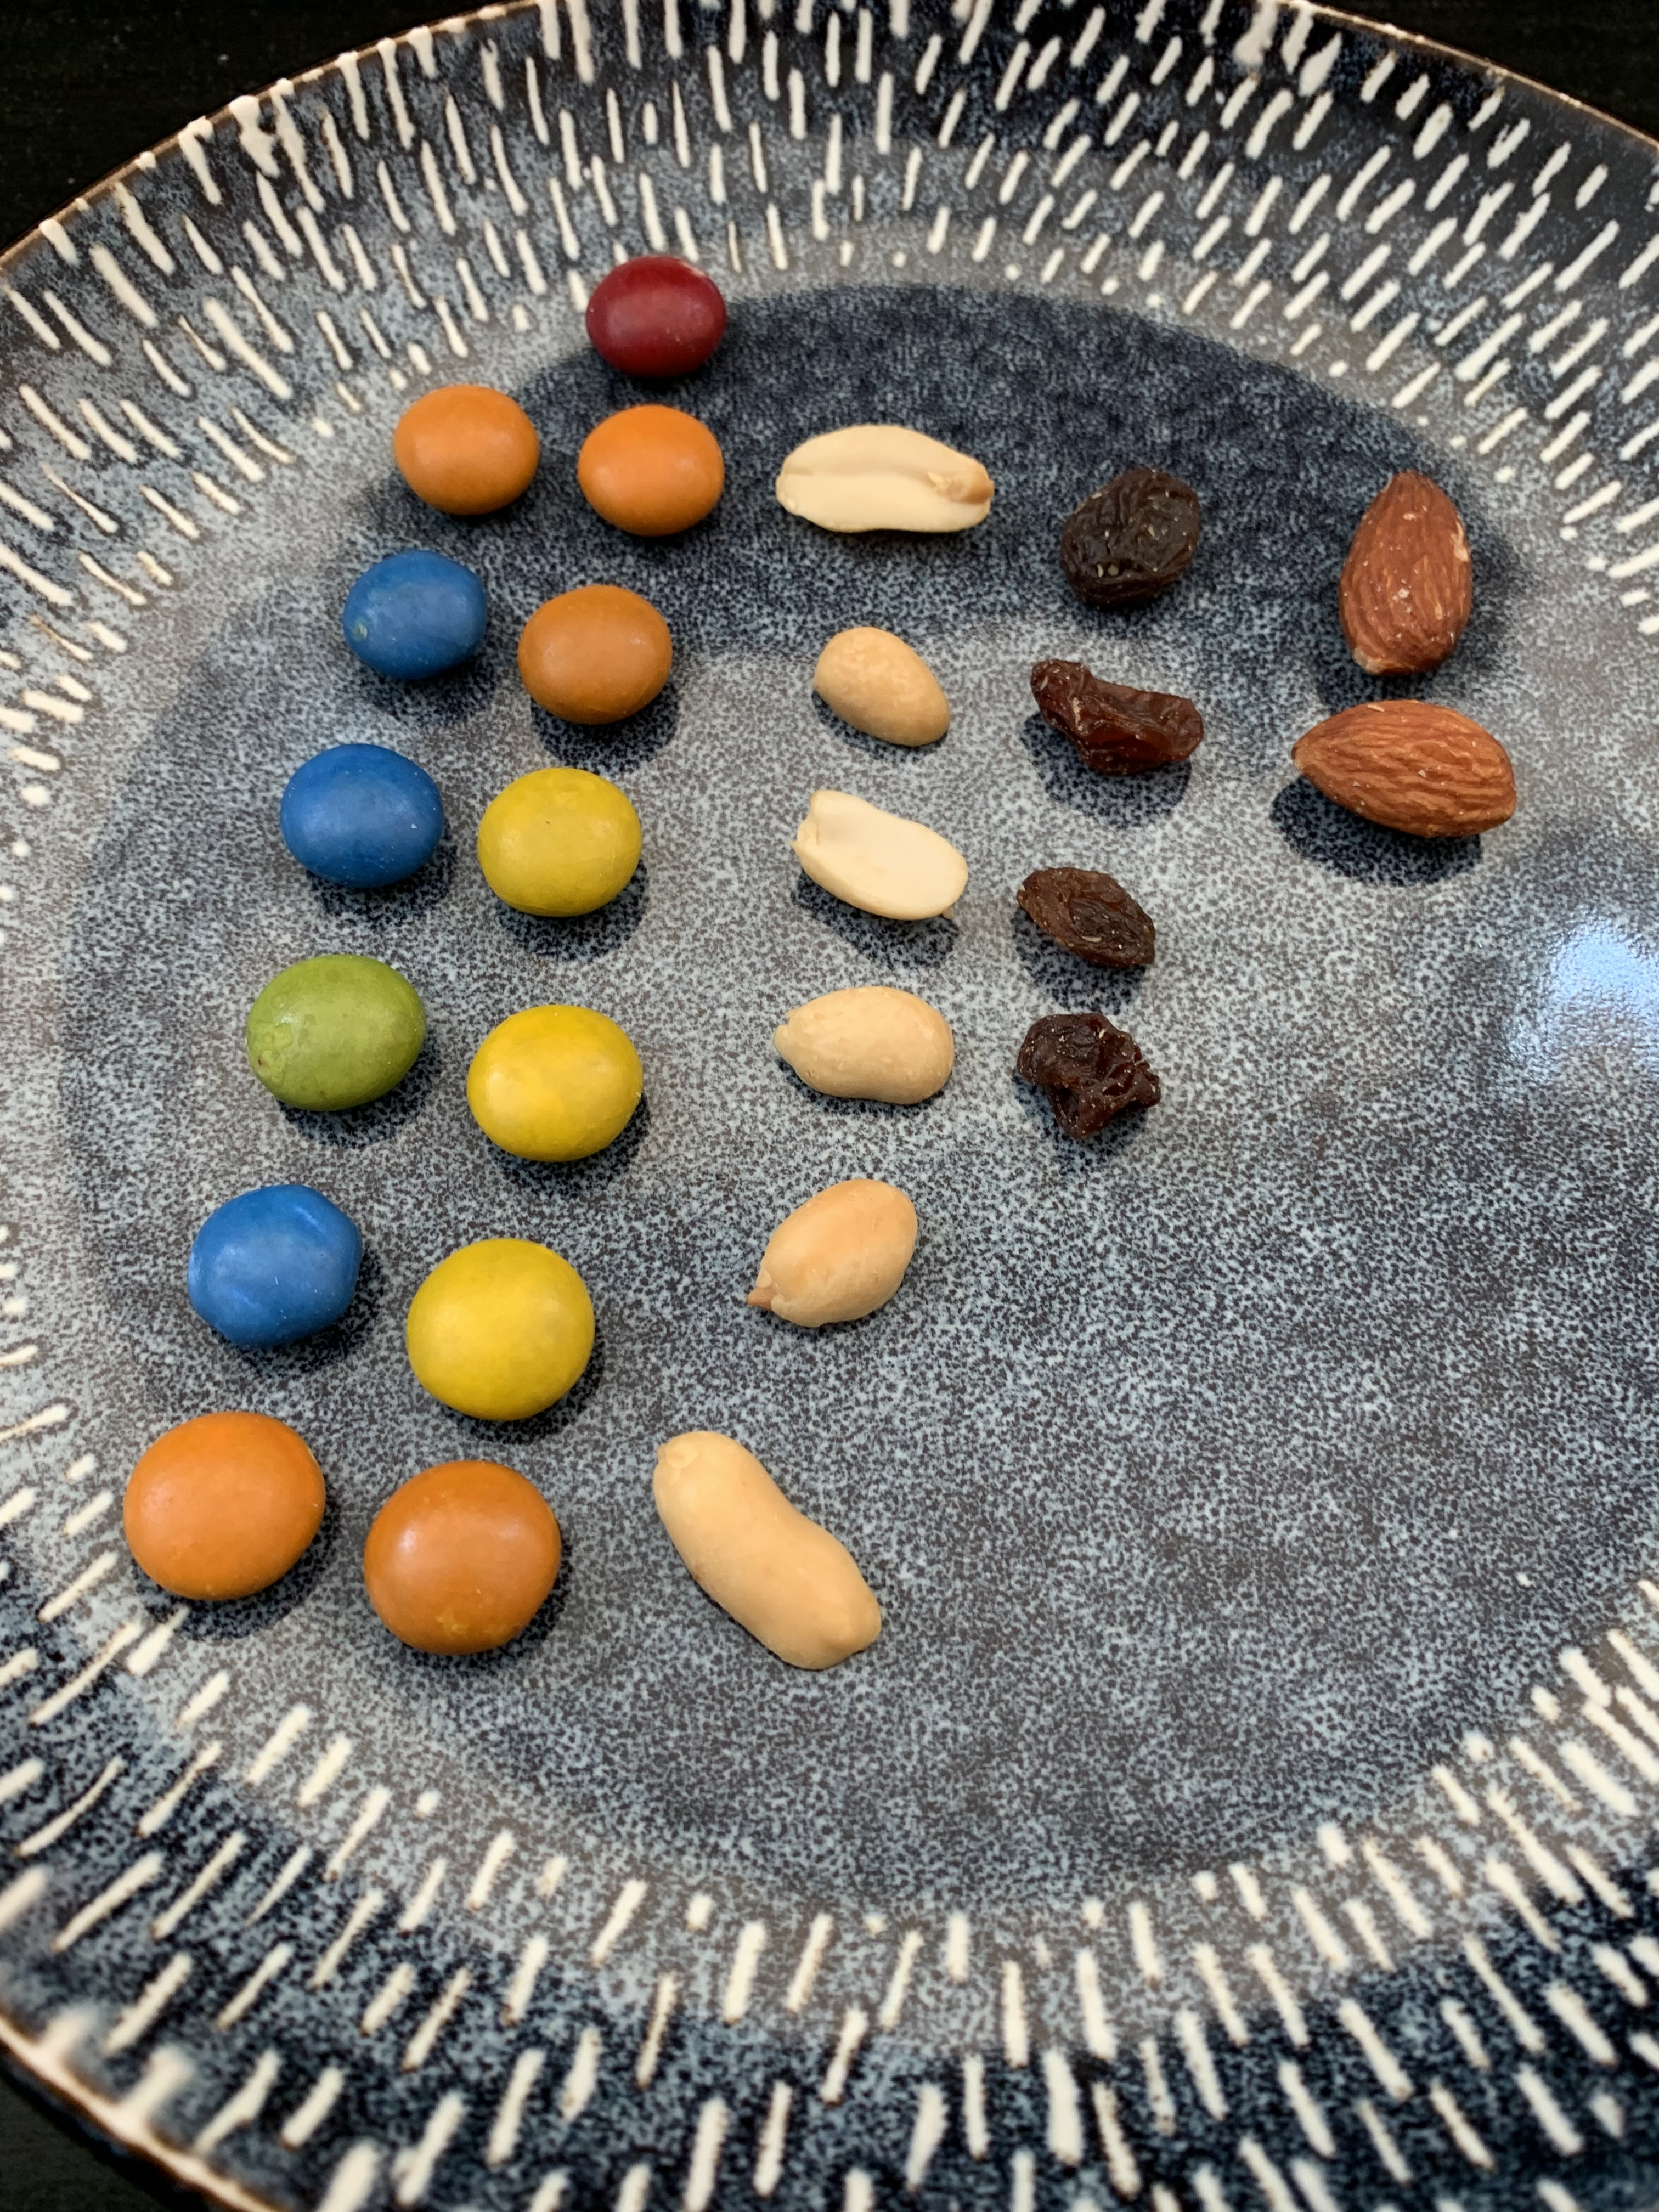almond: (1290, 697, 1520, 840), (1337, 467, 1474, 681)
mm: (361, 1456, 563, 1660), (122, 1409, 328, 1602), (403, 1235, 596, 1425), (246, 951, 429, 1111), (186, 1181, 362, 1345), (464, 1001, 641, 1163), (477, 763, 643, 918), (277, 744, 444, 888), (518, 583, 674, 726), (577, 402, 728, 538), (390, 383, 540, 514), (343, 549, 491, 679), (582, 254, 728, 378)
peanut: (652, 1430, 884, 1670), (746, 1177, 920, 1329), (775, 418, 997, 536), (791, 787, 971, 923), (774, 984, 957, 1104), (812, 625, 953, 747)
raisin: (1056, 467, 1202, 613), (1032, 658, 1206, 772), (1018, 1012, 1164, 1141), (1018, 867, 1159, 975)
